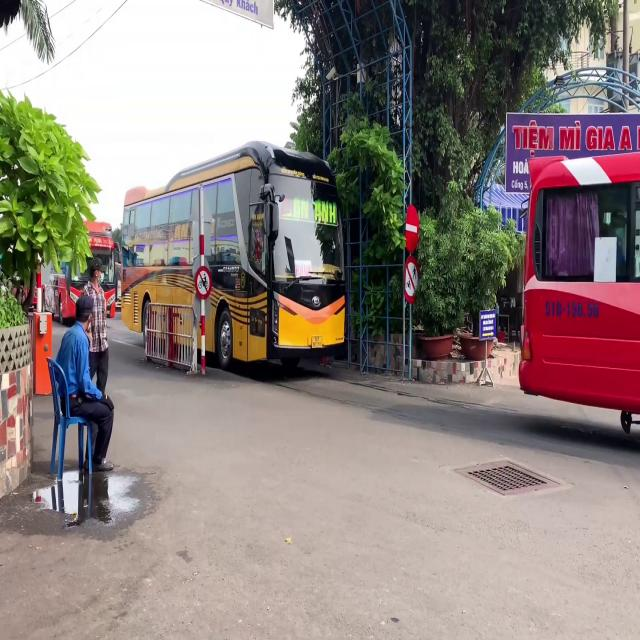bien_vang: (312, 336, 322, 348)
